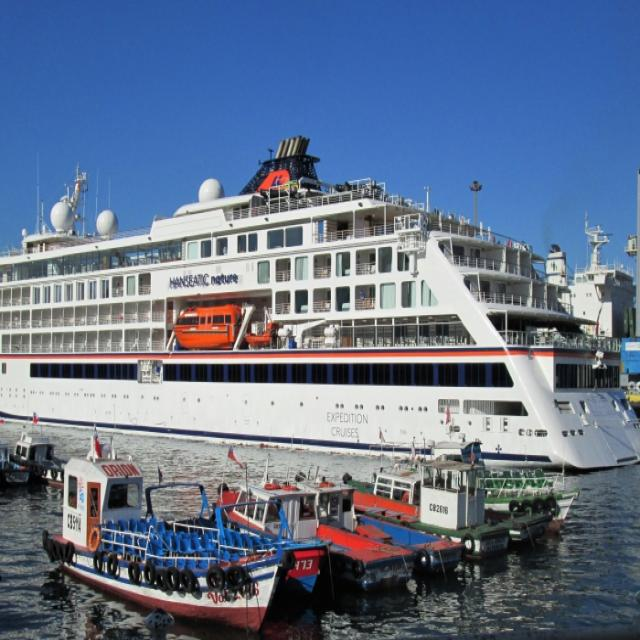cruises: (1, 146, 640, 472)
